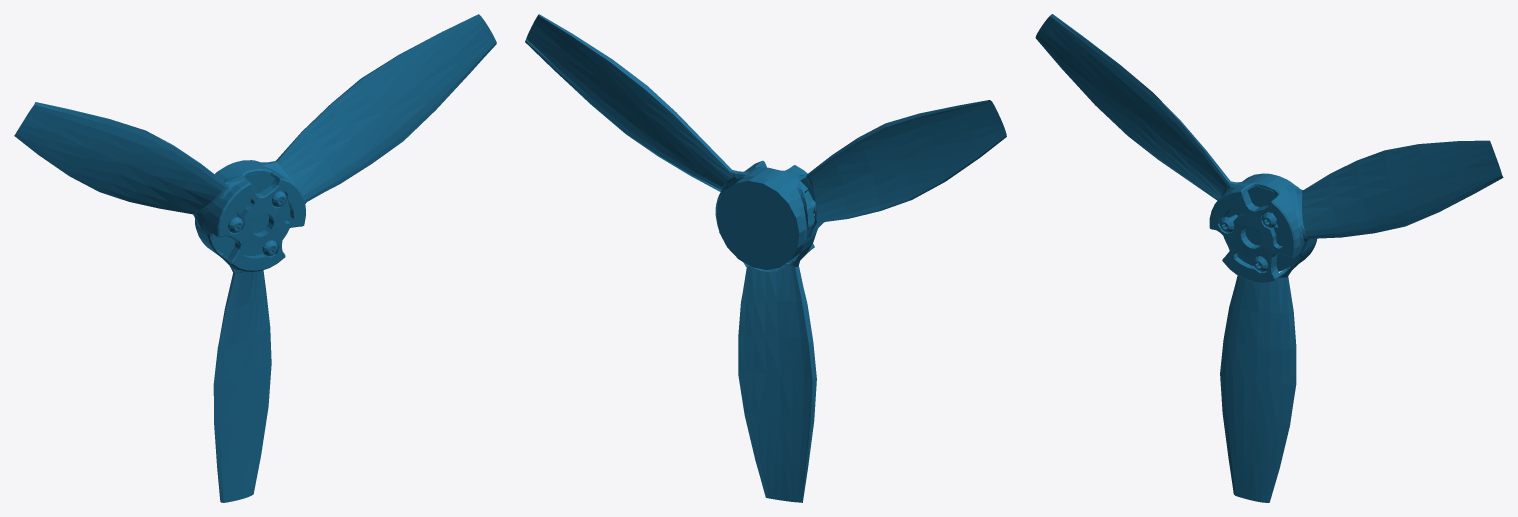
Rendered from link_marvin_rotor_front_left.obj.
3 renders of one model, left to right at view 1: azimuth 30°, elevation 25°; view 2: azimuth 150°, elevation 25°; view 3: azimuth 330°, elevation 25°, orthographic. The views are drawn at different scales.
Visible parts, largest first — view 1: Mesh1 link_marvin_rotor_front_left1 Model, Mesh5 link_marvin_rotor_front_left1 Model; view 2: Mesh1 link_marvin_rotor_front_left1 Model, Mesh5 link_marvin_rotor_front_left1 Model; view 3: Mesh1 link_marvin_rotor_front_left1 Model, Mesh5 link_marvin_rotor_front_left1 Model.
Boxes of the visible parts, box(x1,y1,x2,y2) form: Mesh1 link_marvin_rotor_front_left1 Model: box(14, 14, 496, 502); Mesh5 link_marvin_rotor_front_left1 Model: box(212, 172, 290, 256); Mesh1 link_marvin_rotor_front_left1 Model: box(525, 14, 1006, 502); Mesh5 link_marvin_rotor_front_left1 Model: box(716, 176, 814, 269); Mesh1 link_marvin_rotor_front_left1 Model: box(1035, 14, 1503, 502); Mesh5 link_marvin_rotor_front_left1 Model: box(1222, 186, 1299, 271).
Bounding box in the file's own units: 0.1359 × 0.121 × 0.0137.
1 material, 1 textured.
